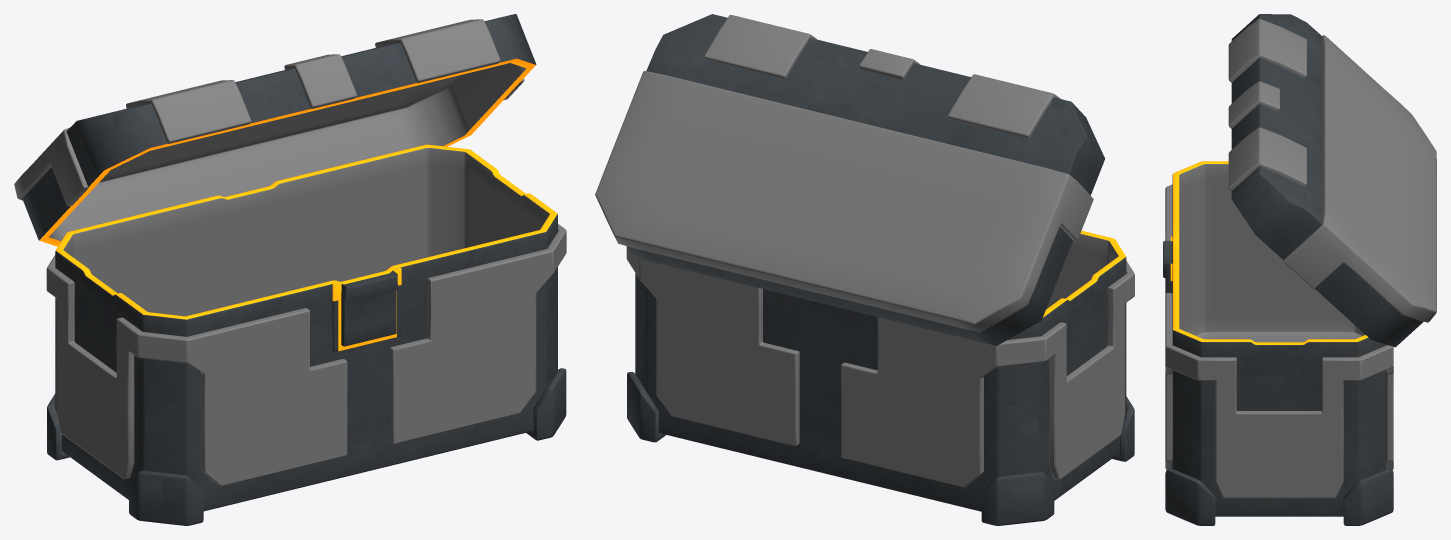
File: chest.glb
The picture shows the model from 3 angles, left to right: view 1: azimuth 30°, elevation 25°; view 2: azimuth 150°, elevation 25°; view 3: azimuth 270°, elevation 25°; orthographic projection. The views are drawn at different scales.
Parts seen in each view (by area): view 1: chest, chest_decals, cover_decals, cover, chest_corners, chest_lock; view 2: cover, chest_decals, chest, cover_decals, chest_corners; view 3: chest, cover, chest_decals, cover_decals, chest_corners, chest_lock.
Part boxes in pixels (<box>): chest: <box>55,144,557,511</box>; chest_decals: <box>46,224,566,486</box>; cover_decals: <box>22,14,536,246</box>; cover: <box>14,19,524,206</box>; chest_corners: <box>47,368,566,525</box>; chest_lock: <box>332,267,401,352</box>; cover: <box>595,15,1093,331</box>; chest_decals: <box>626,247,1134,487</box>; chest: <box>635,230,1126,511</box>; cover_decals: <box>626,14,1104,345</box>; chest_corners: <box>627,372,1134,525</box>; chest: <box>1172,161,1386,516</box>; cover: <box>1228,19,1436,322</box>; chest_decals: <box>1165,184,1393,498</box>; cover_decals: <box>1231,14,1423,347</box>; chest_corners: <box>1165,468,1393,525</box>; chest_lock: <box>1163,236,1172,293</box>.
Size of the model in its own units: 0.6376 by 0.5304 by 0.384.
3 materials, 1 textured.
